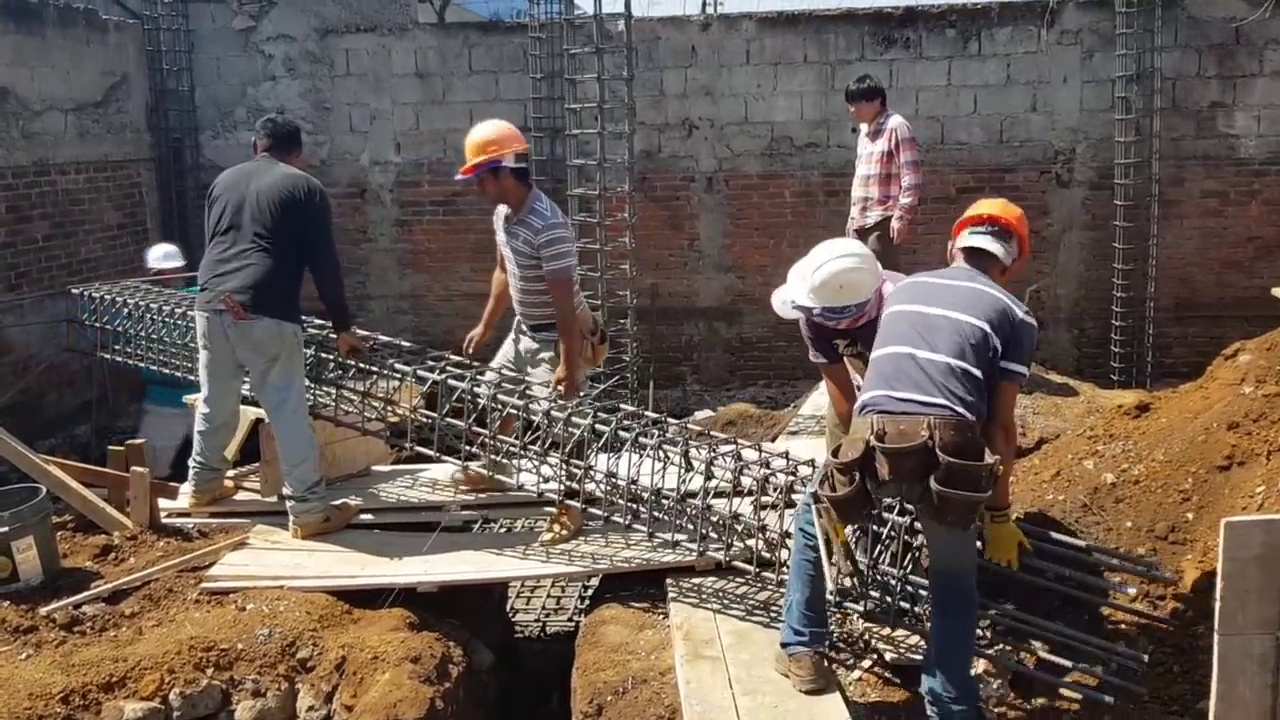helmet: (784, 241, 882, 317), (950, 194, 1035, 277), (454, 120, 532, 175), (141, 236, 187, 270)
helmet-off: (246, 115, 304, 170), (847, 72, 891, 123)
helmet-on: (770, 236, 881, 332), (940, 194, 1037, 289), (454, 121, 535, 206), (141, 238, 184, 292)
person: (795, 212, 1057, 706), (179, 116, 380, 557), (454, 112, 609, 517), (771, 237, 913, 496), (113, 237, 202, 484), (832, 78, 923, 258)
